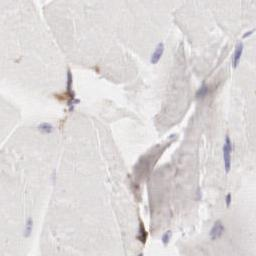nucleus: (150, 42, 164, 64), (223, 135, 231, 171), (210, 221, 226, 238), (233, 41, 242, 68), (23, 217, 33, 239), (38, 123, 53, 134), (161, 232, 172, 245), (66, 67, 72, 90), (68, 100, 81, 110), (195, 85, 207, 95), (242, 29, 254, 38), (226, 191, 231, 207), (137, 254, 142, 256)
positive_cell: (55, 91, 76, 99)
